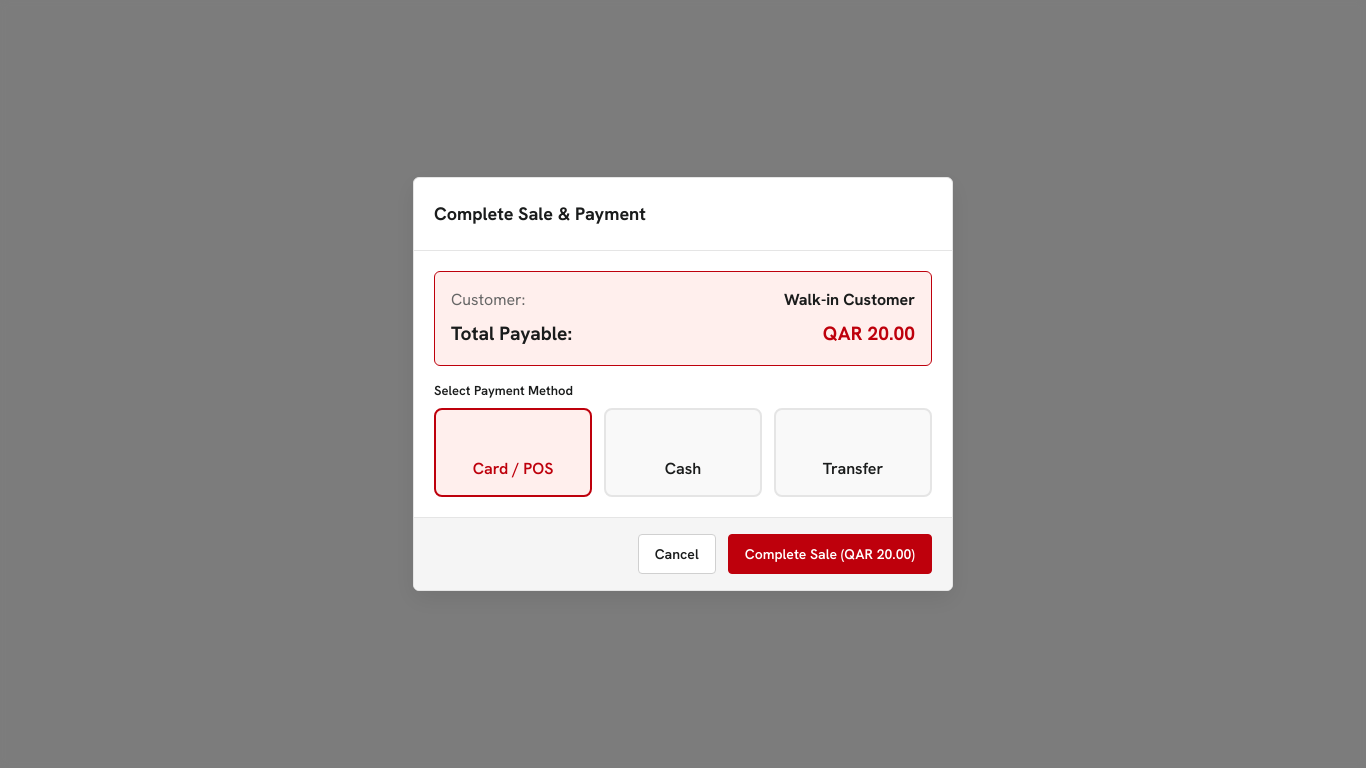
Test case: payment modal suppresses late sale UI, cart, and catalog continuations after replacement
What coordinates should you click on to do the following:
click the button "Complete Sale (QAR 20.00)"
I would click on:
 (830, 554)
Its box is [728, 534, 932, 574].
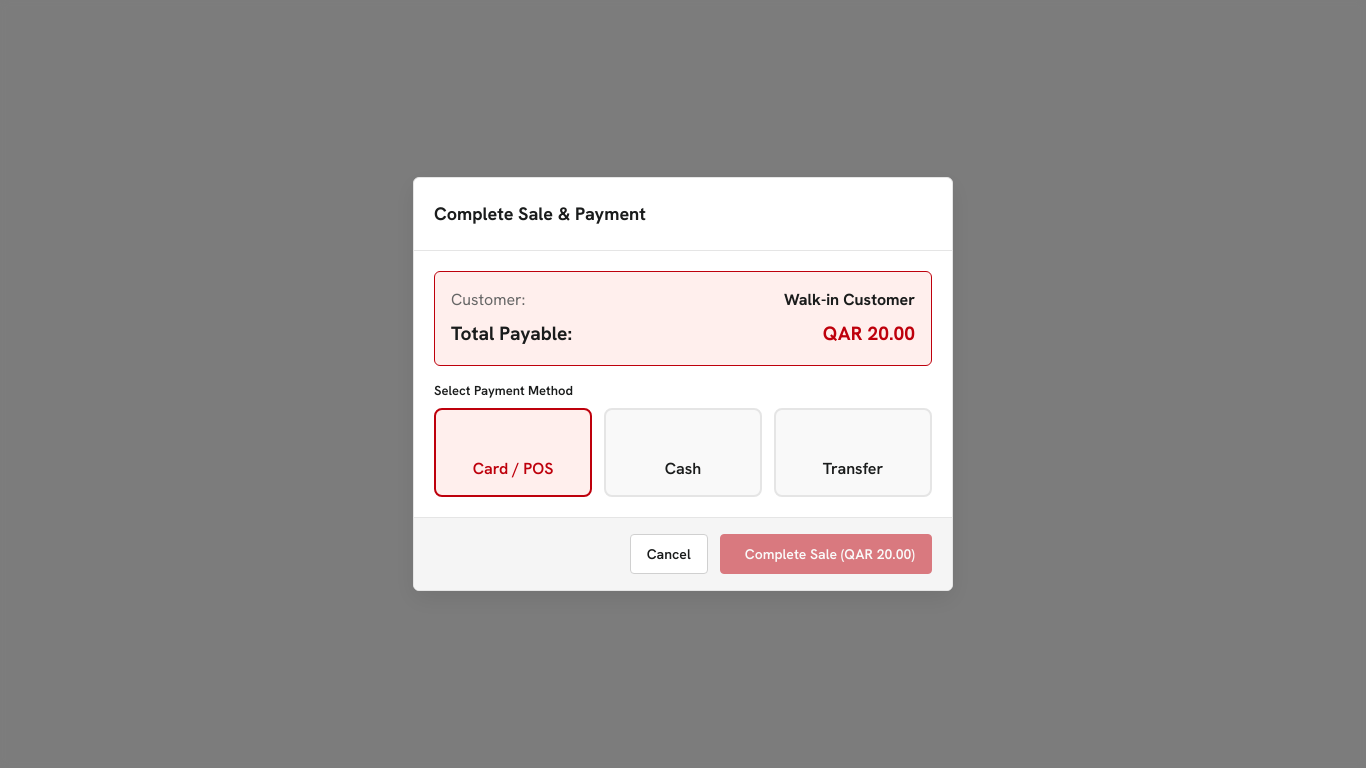
Now the button "Complete Sale (QAR 20.00)" is disabled, box [720, 534, 932, 574]
